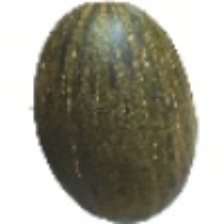honeydew: (24, 54, 207, 193)
